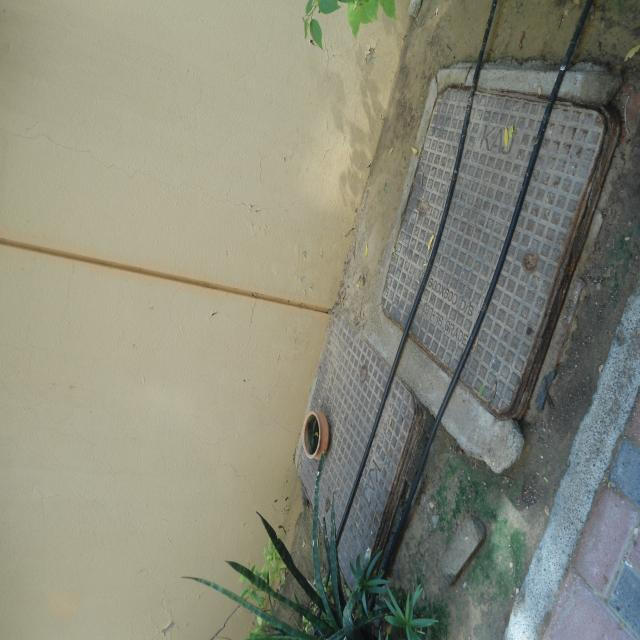bush: (206, 513, 447, 640), (284, 0, 406, 41)
pothole: (382, 61, 590, 449), (286, 304, 412, 573)
